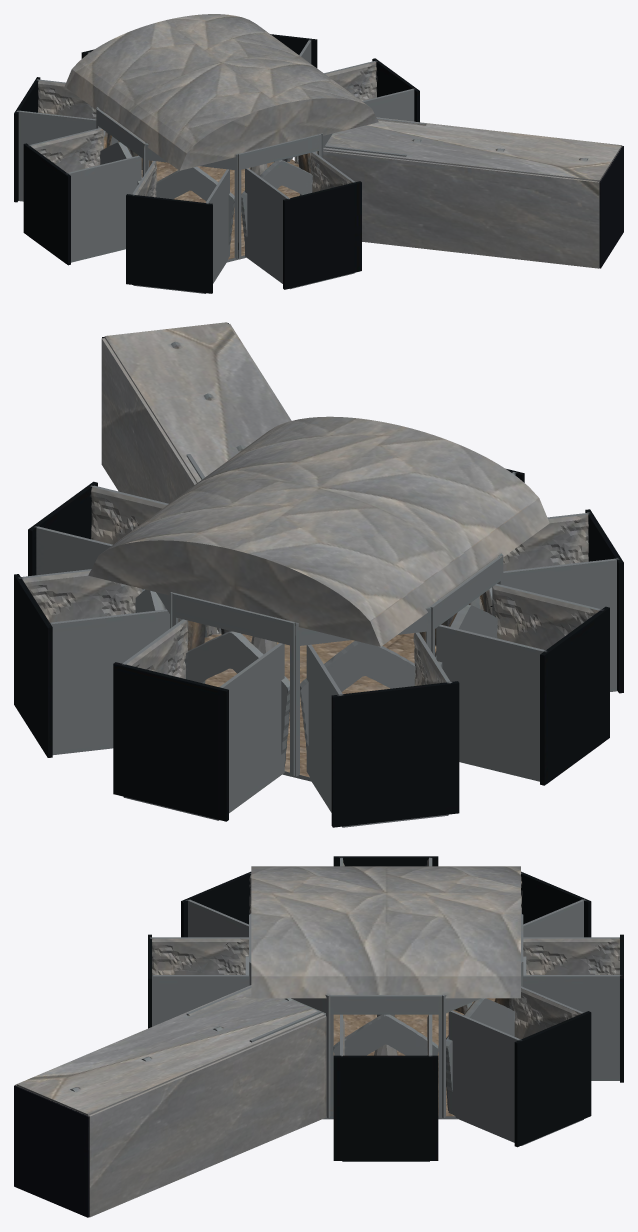
File: room.glb
3 views of the same model, one above another, from view 1: azimuth 30°, elevation 25°; view 2: azimuth 150°, elevation 25°; view 3: azimuth 270°, elevation 25° (orthographic). The views are drawn at different scales.
Parts seen in each view (by area): view 1: DIAMOND-1; view 2: DIAMOND-1; view 3: DIAMOND-1.
Boxes of the visible parts, x1=… form: DIAMOND-1: x1=14, y1=14, x2=623, y2=293; DIAMOND-1: x1=14, y1=322, x2=623, y2=827; DIAMOND-1: x1=14, y1=856, x2=623, y2=1217.
Size of the model in its own units: 18.1 by 5.56 by 18.1.
Materials: 1 (1 with a texture image).
